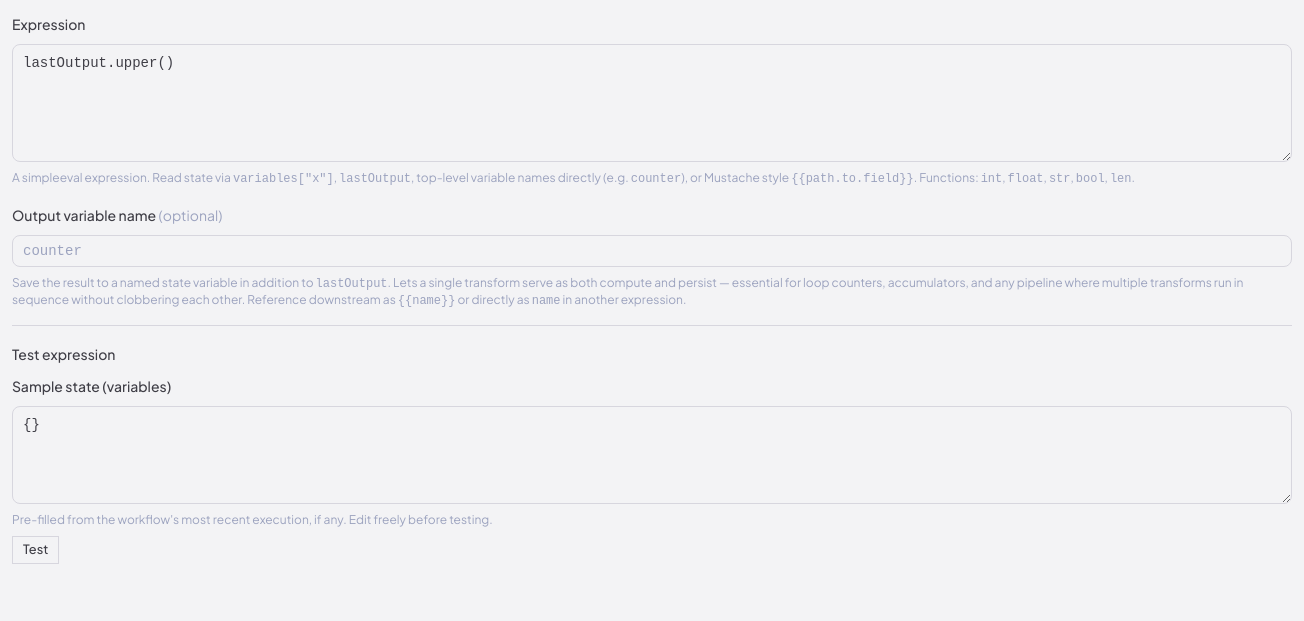
Test: TransformPanel › runs the test and shows the result on success
Click the button "Test" at [36, 550], box left=12, top=536, right=59, bottom=564
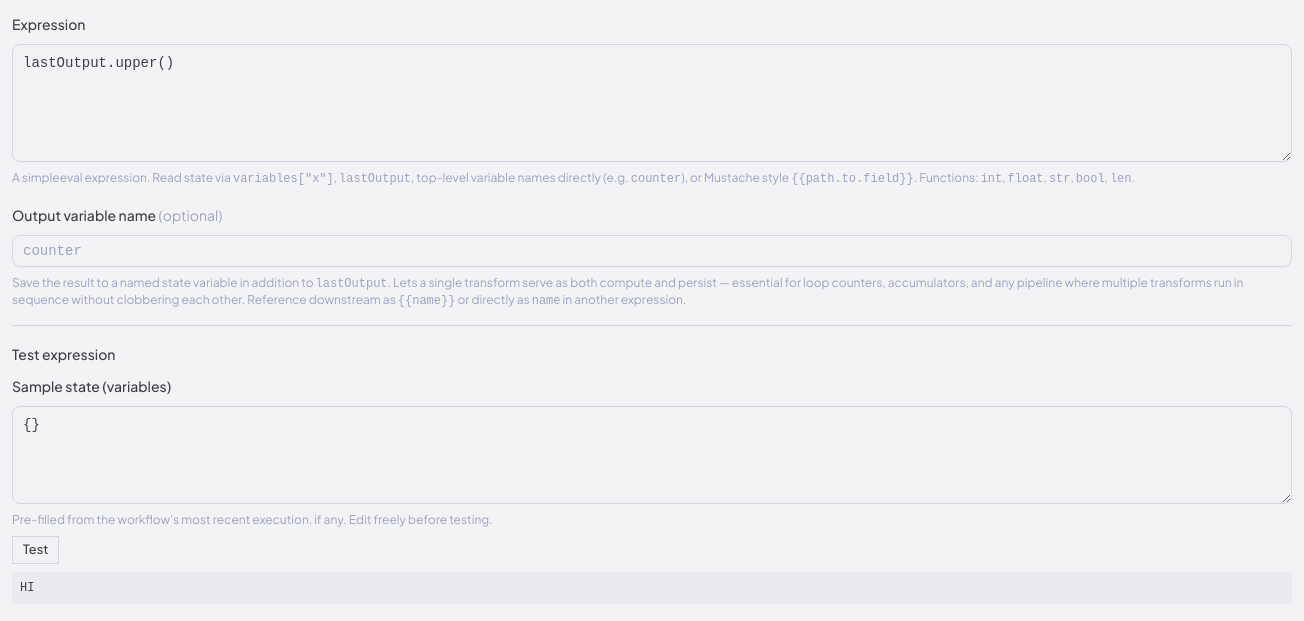
Expected: the text "HI" is shown, left=12, top=572, right=1292, bottom=604
